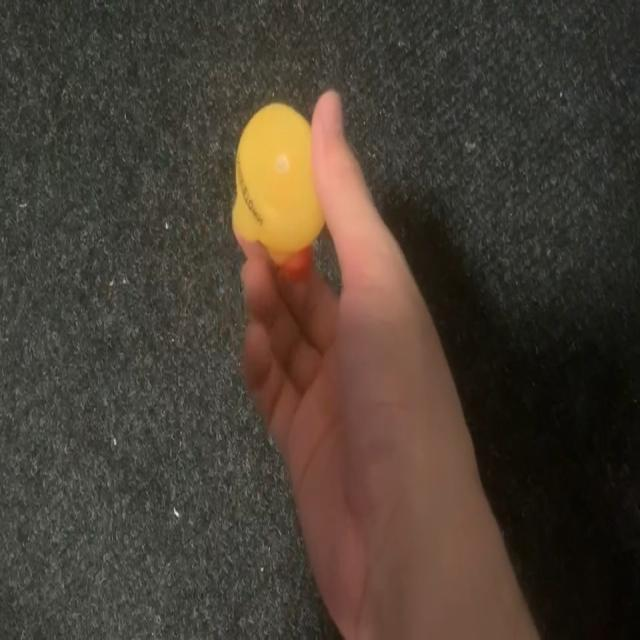rubber-duck: (231, 102, 322, 262)
